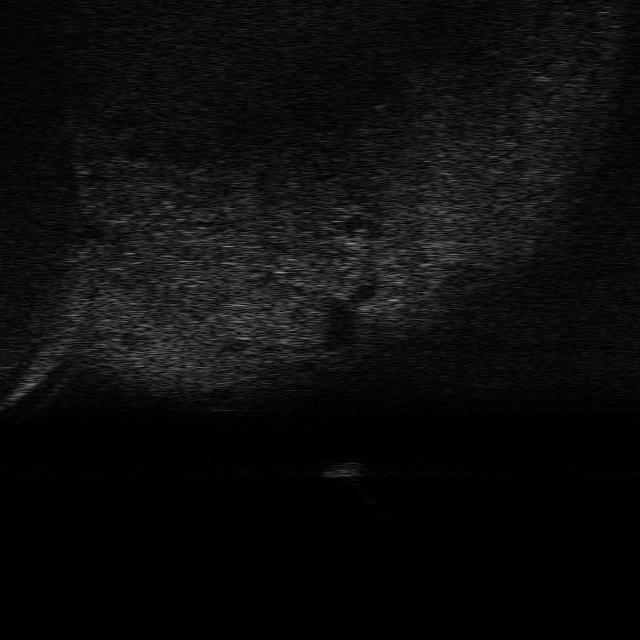cube: (323, 458, 365, 479)
